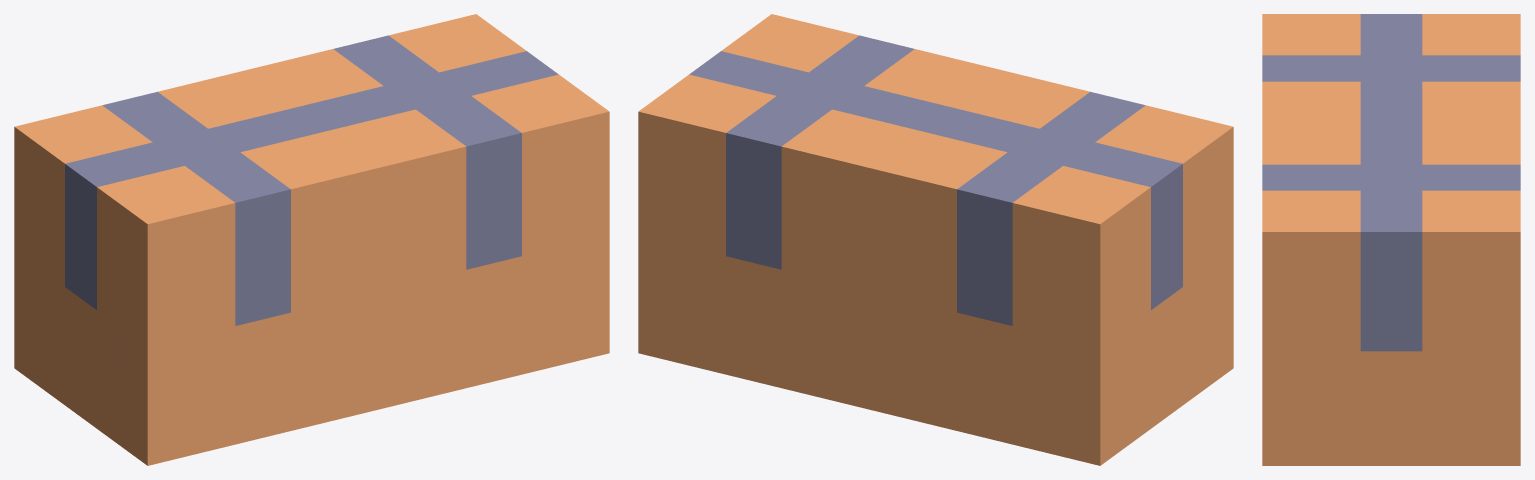
3 views of the same model, side by side, from view 1: azimuth 30°, elevation 25°; view 2: azimuth 150°, elevation 25°; view 3: azimuth 270°, elevation 25° (orthographic). The views are drawn at different scales.
Parts seen in each view (by area): view 1: Box2x1, Box2x1.lid.2, Box2x1.lid.1; view 2: Box2x1, Box2x1.lid.1, Box2x1.lid.2; view 3: Box2x1, Box2x1.lid.1, Box2x1.lid.2.
Boxes of the visible parts, box(x1,y1,x2,y2) form: Box2x1: box(14, 116, 609, 465); Box2x1.lid.2: box(81, 63, 609, 228); Box2x1.lid.1: box(14, 14, 542, 179); Box2x1: box(638, 116, 1233, 465); Box2x1.lid.1: box(638, 63, 1166, 228); Box2x1.lid.2: box(705, 14, 1233, 179); Box2x1: box(1262, 236, 1520, 465); Box2x1.lid.1: box(1391, 14, 1520, 236); Box2x1.lid.2: box(1262, 14, 1391, 236).
Size of the model in its own units: 200 by 100 by 100.
